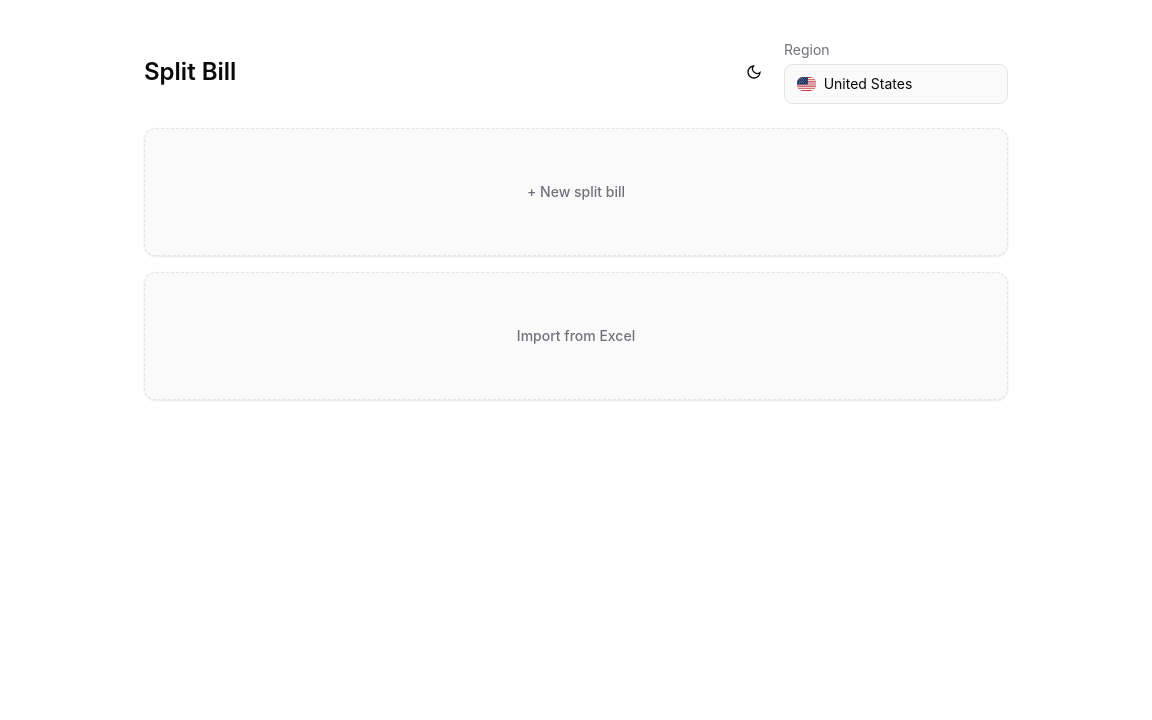
Test case: App › returns Home when the wizard's Home button is clicked
This screenshot has width=1152, height=720.
What coordinates should you click on to do the following:
click the button "+ New split bill"
I would click on:
 (576, 192)
Its box is top-left (144, 128), bottom-right (1008, 256).
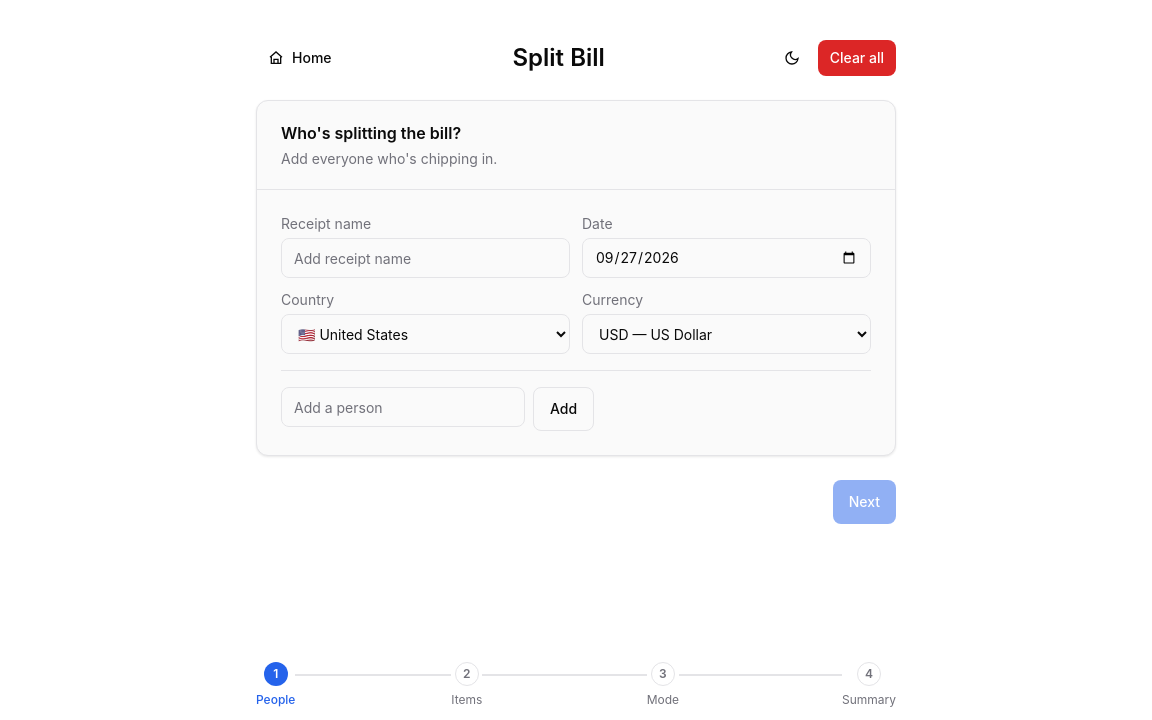
What coordinates should you click on to do the following:
click the button "Home"
I would click on:
 (300, 58)
Its box is top-left (256, 40), bottom-right (344, 76).
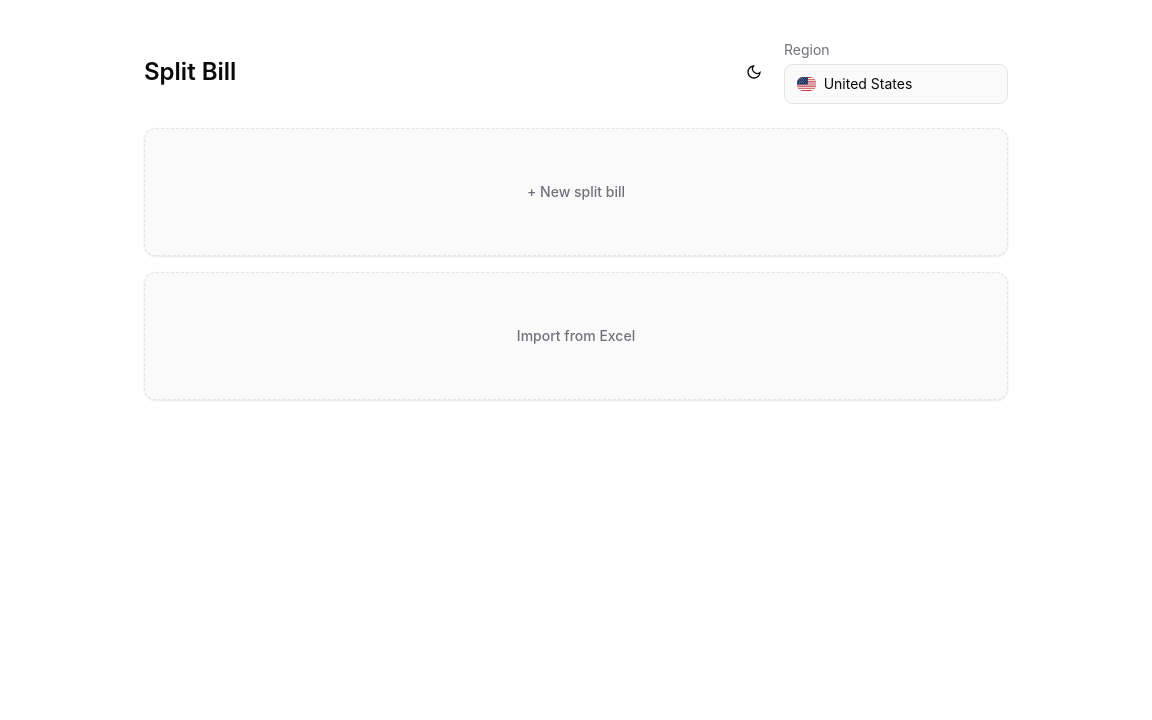
Expected: the text "+ New split bill" is shown, top-left (527, 182), bottom-right (625, 202)
